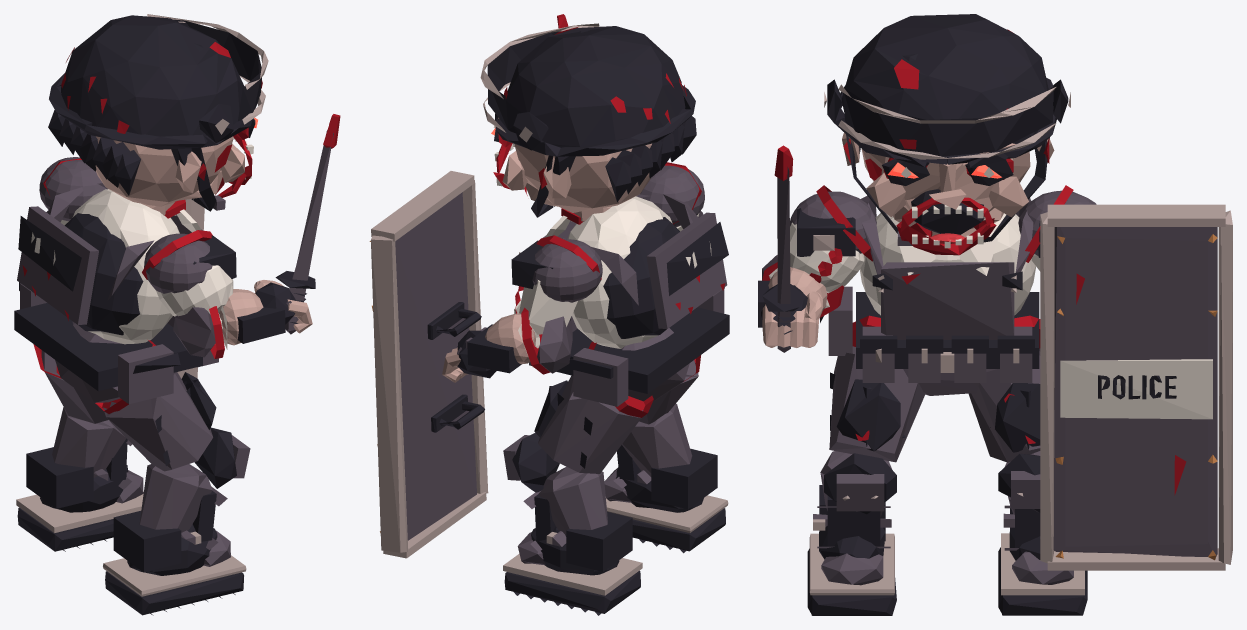
File: inf.riot-cop.lod1.glb
The picture shows the model from 3 angles, left to right: view 1: azimuth 30°, elevation 25°; view 2: azimuth 150°, elevation 25°; view 3: azimuth 270°, elevation 25°; orthographic projection. The views are drawn at different scales.
Parts seen in each view (by area): view 1: head, torso, hip, footR, footL, shinR, legR, armR, foreArmR, handR, shinL, armL (+4 smaller); view 2: shield, head, torso, footL, hip, footR, shinL, legL, armL, foreArmL, shinR, armR (+5 smaller); view 3: shield, head, torso, hip, footR, legR, armR, footL, shinR, handR, legL, shinL (+3 smaller).
Boxes of the visible parts, box(x1,y1,x2,y2) form: head: box(48, 14, 268, 215); torso: box(17, 183, 202, 344); hip: box(14, 282, 218, 404); footR: box(103, 511, 246, 615); footL: box(16, 447, 143, 551); shinR: box(139, 427, 250, 549); legR: box(103, 372, 216, 471); armR: box(144, 233, 236, 316); foreArmR: box(173, 289, 285, 357); handR: box(254, 114, 340, 334); shinL: box(52, 407, 132, 489); armL: box(39, 157, 106, 225); shield: box(369, 171, 488, 558); head: box(480, 23, 696, 221); torso: box(519, 193, 728, 348); footL: box(503, 511, 642, 615); hip: box(529, 287, 729, 406); footR: box(604, 448, 728, 553); shinL: box(503, 432, 607, 552); legL: box(534, 375, 643, 473); armL: box(511, 239, 602, 334); foreArmL: box(465, 313, 572, 373); shinR: box(613, 404, 692, 488); armR: box(640, 165, 704, 231); shield: box(1040, 204, 1232, 570); head: box(824, 14, 1070, 255); torso: box(859, 195, 1035, 339); hip: box(820, 286, 1039, 395); footR: box(807, 485, 896, 615); legR: box(829, 346, 925, 462); armR: box(790, 191, 876, 293); footL: box(998, 508, 1087, 615); shinR: box(817, 451, 896, 548); handR: box(761, 145, 822, 352); legL: box(968, 348, 1040, 462); shinL: box(998, 451, 1040, 550).
Size of the model in its own units: 0.7946 by 1.8 by 1.34.
